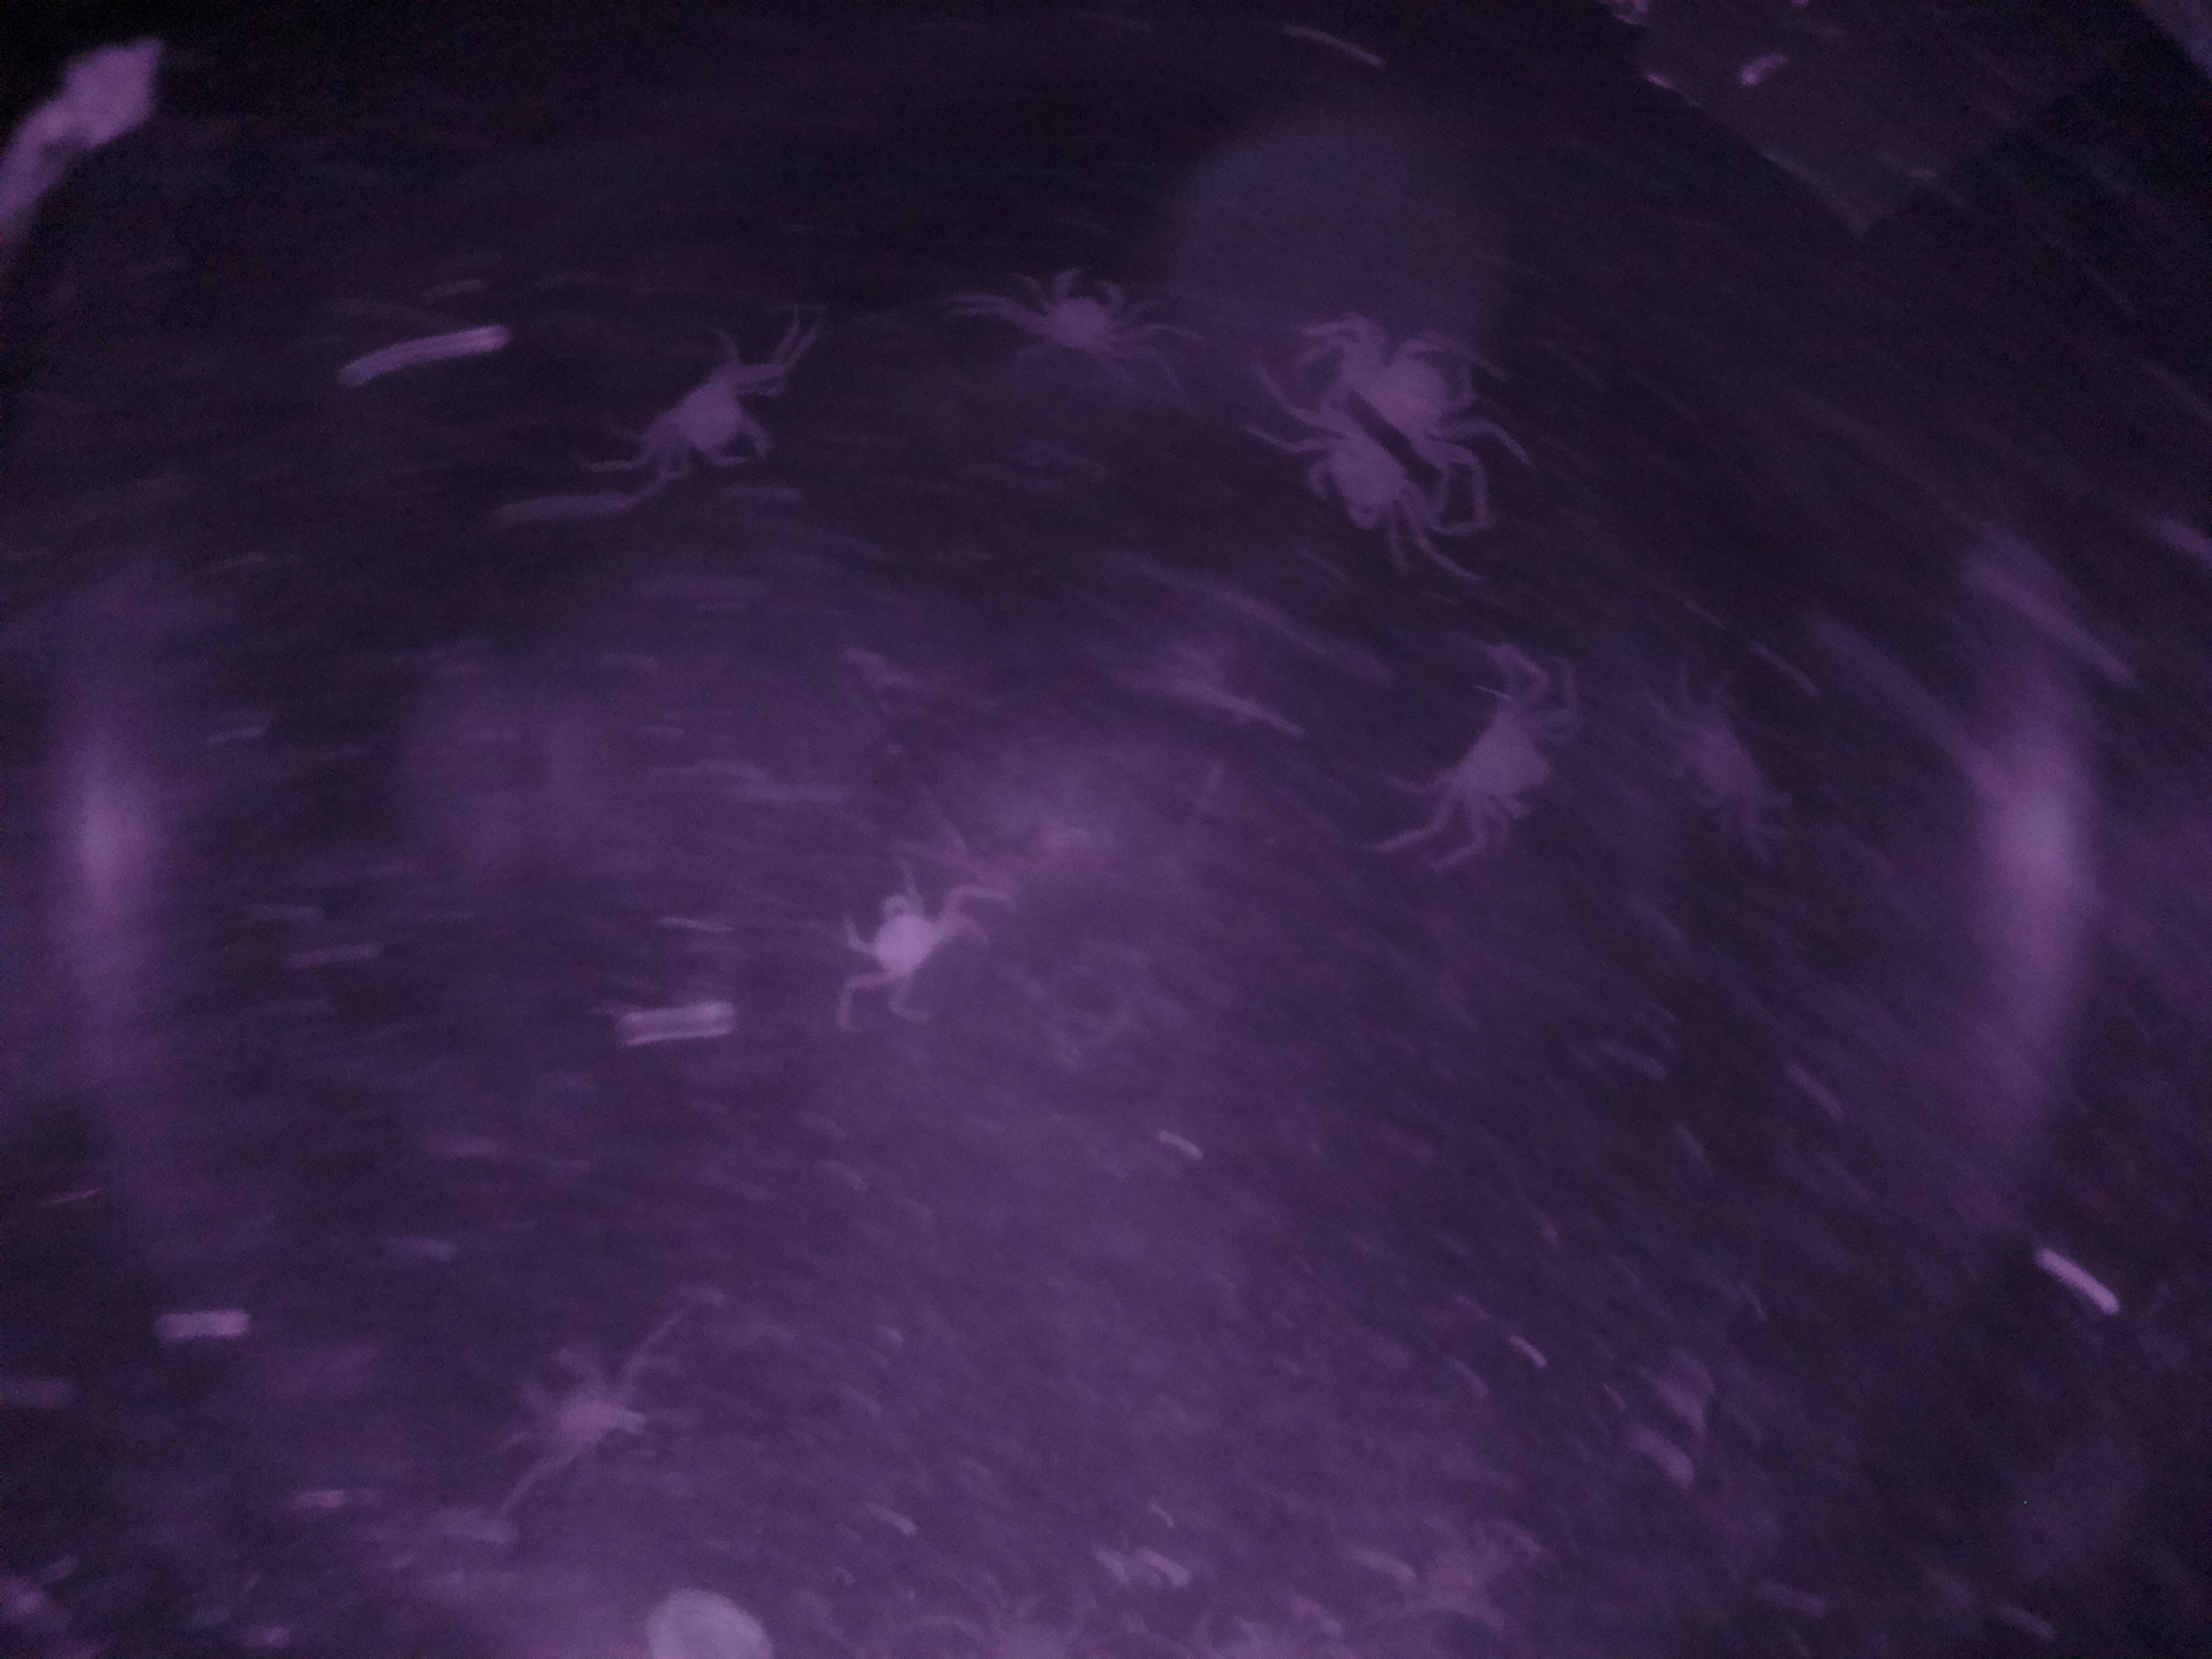Crab: (1291, 396, 1439, 561), (629, 349, 796, 495)
